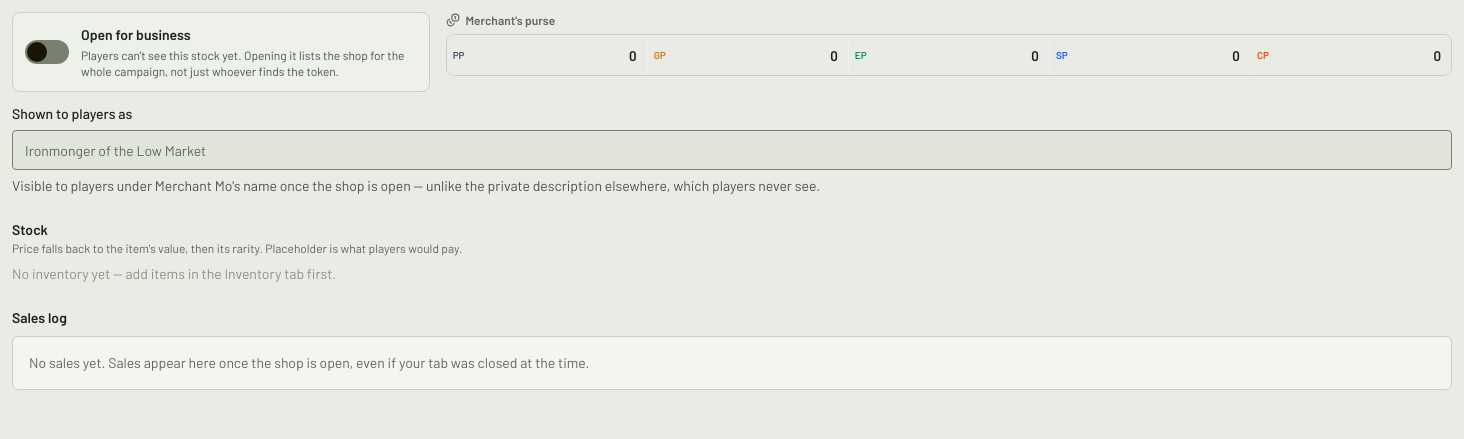
NPCShopTab › publishing the shop › surfaces a failed publish (non-2xx) to the DM instead of swallowing it
Click the switch named "Open for business" at (47, 52), box [25,40,69,64]
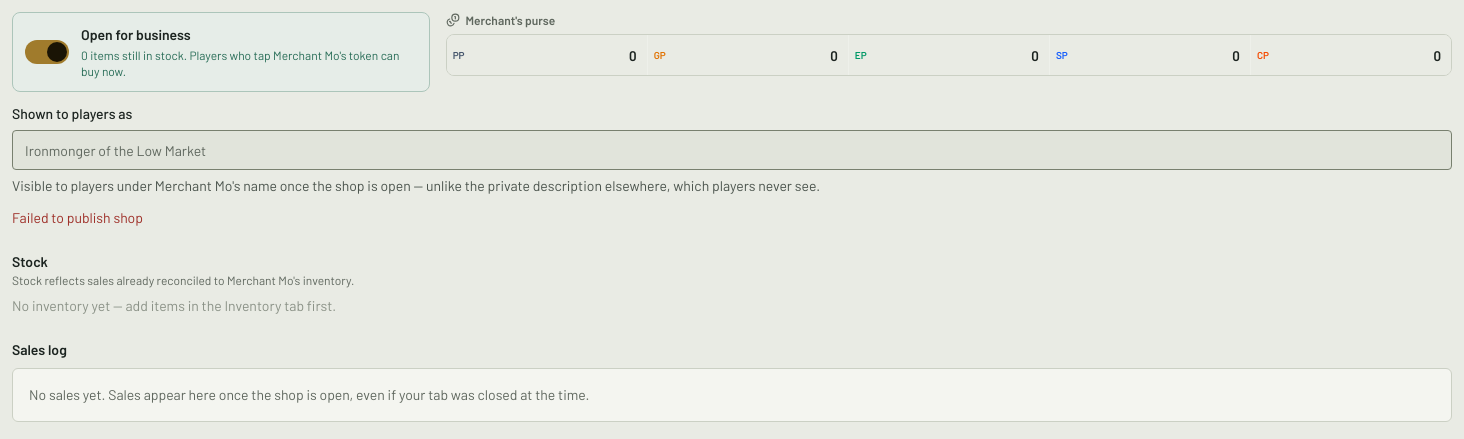
expect the switch named "Open for business" is checked: met, box [25,40,69,64]
expect the message reads "Failed to publish shop": met, box [12,209,143,226]
